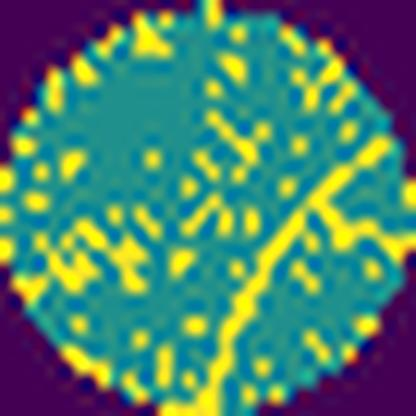Scratch: (159, 137, 410, 416)
